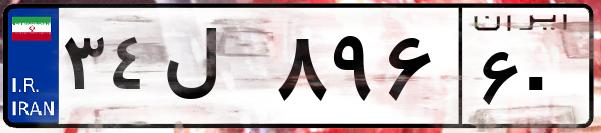0: (525, 38, 570, 115)
3: (57, 26, 110, 100)
4: (110, 28, 158, 98)
6: (385, 28, 445, 110), (475, 38, 525, 113)
8: (270, 28, 330, 110)
9: (330, 28, 385, 110)
ل: (158, 20, 270, 120)
